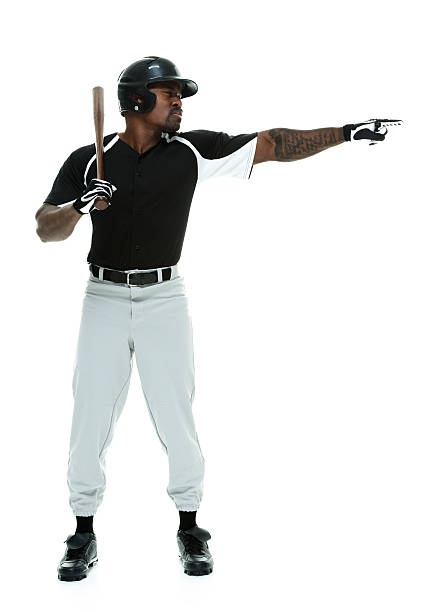bita: (90, 75, 110, 214)
